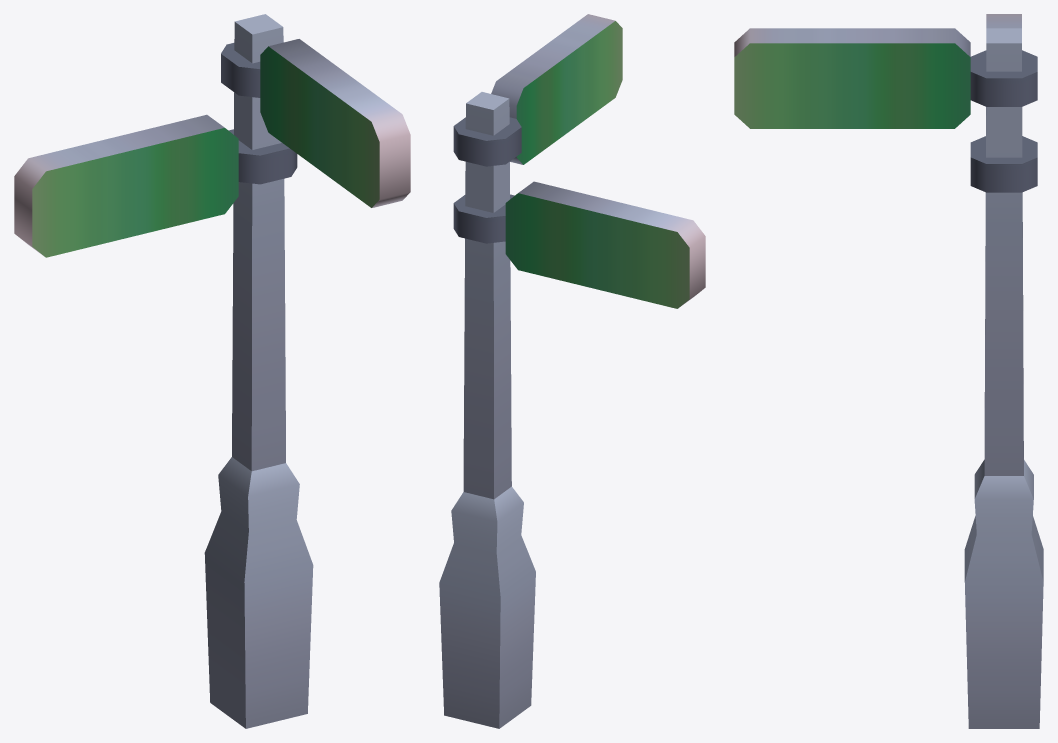
The model's file is road_road_sign_street.glb.
3 renders of one model, left to right at view 1: azimuth 30°, elevation 25°; view 2: azimuth 150°, elevation 25°; view 3: azimuth 270°, elevation 25°, orthographic. The views are drawn at different scales.
Parts seen in each view (by area): view 1: road-sign-street; view 2: road-sign-street; view 3: road-sign-street.
Part boxes in pixels (x1,y1,x2,y2): road-sign-street: (14,14,410,728); road-sign-street: (439,14,705,728); road-sign-street: (734,14,1043,728).
Size of the model in its own units: 0.1963 by 0.475 by 0.1962.
Materials: 1 (1 with a texture image).
